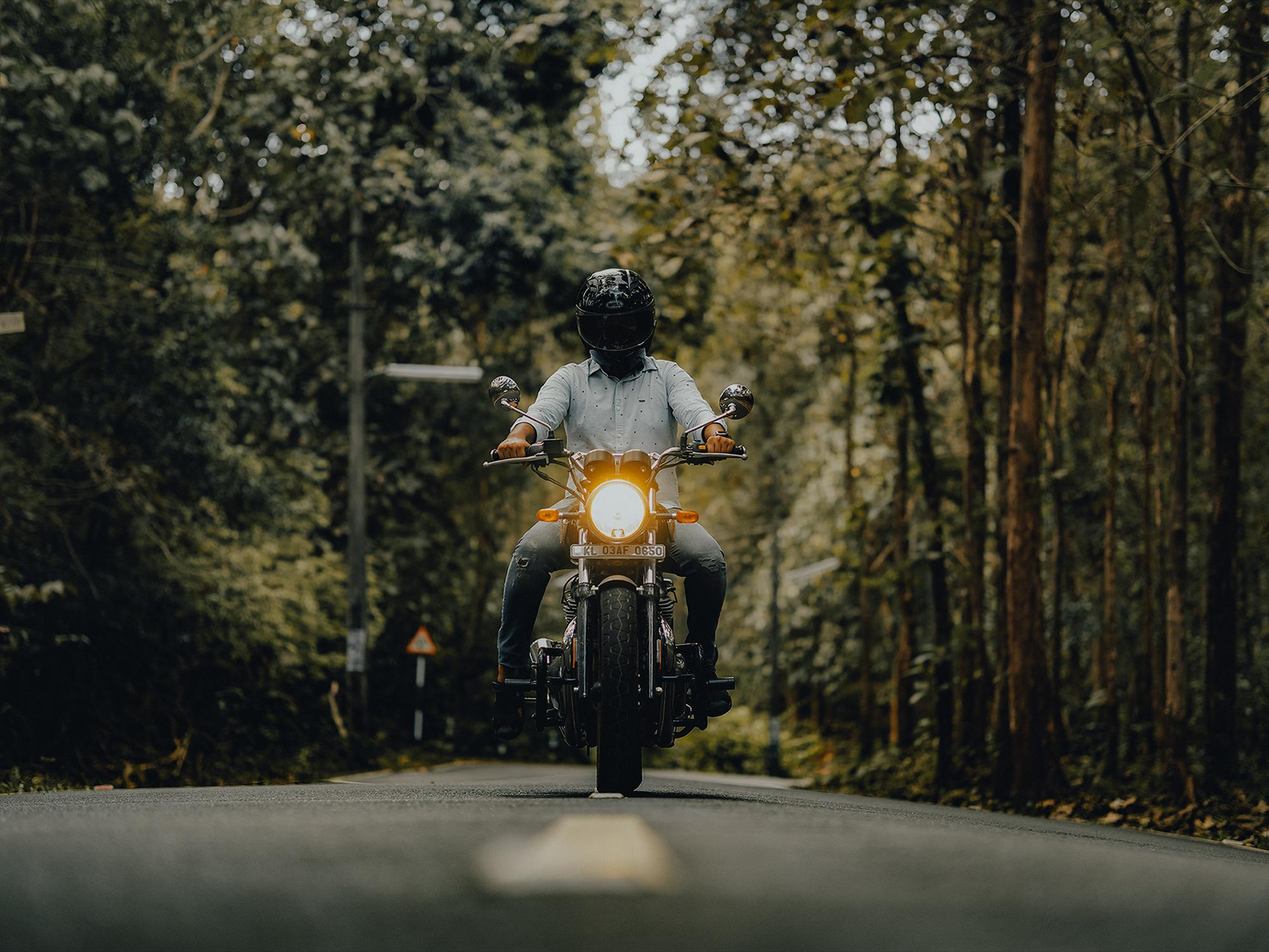helmet: (574, 266, 658, 374)
